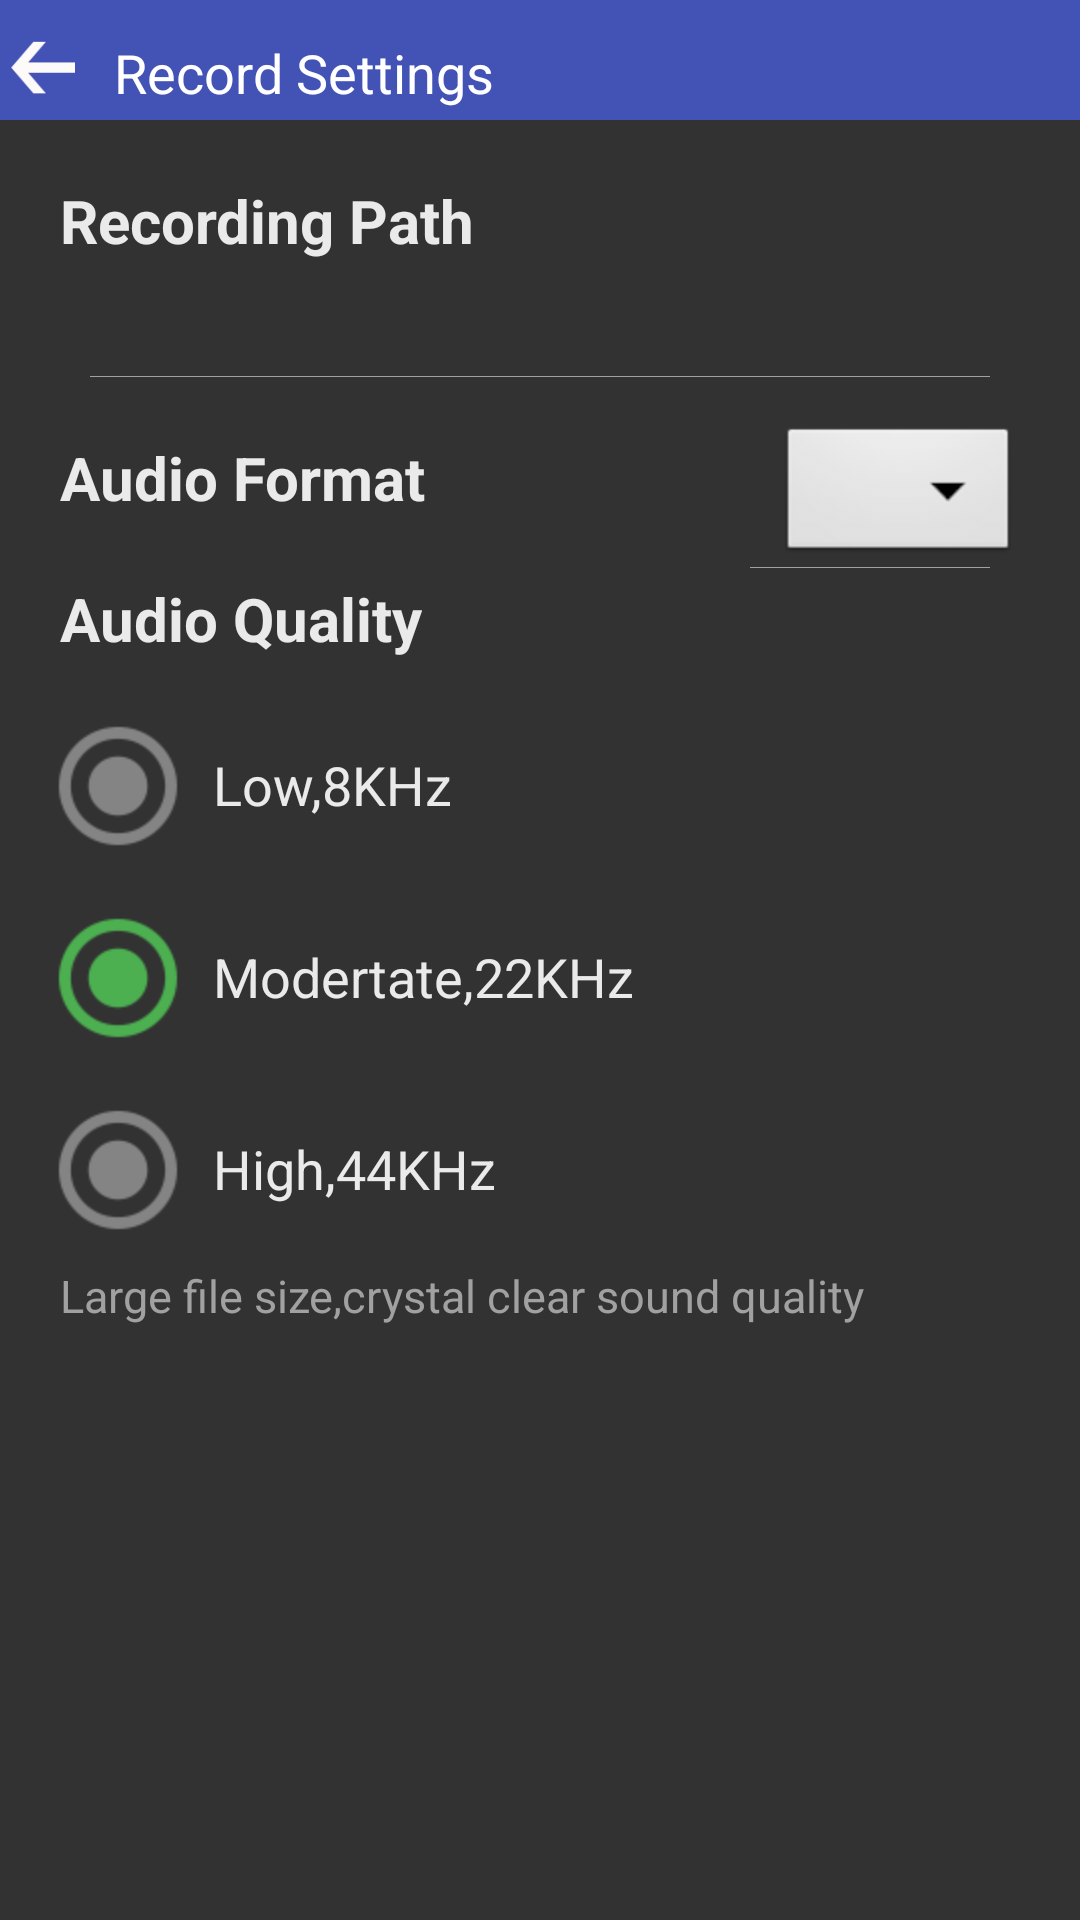

Point at icon controls on the screen. Image size 1080*1920, points as (x=x, y=y).
jiantou: (x=43, y=67)
